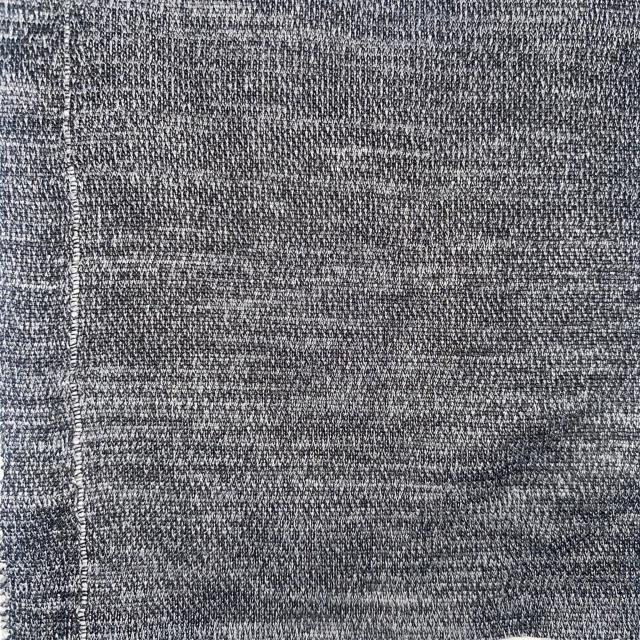Line: (58, 3, 91, 640)
